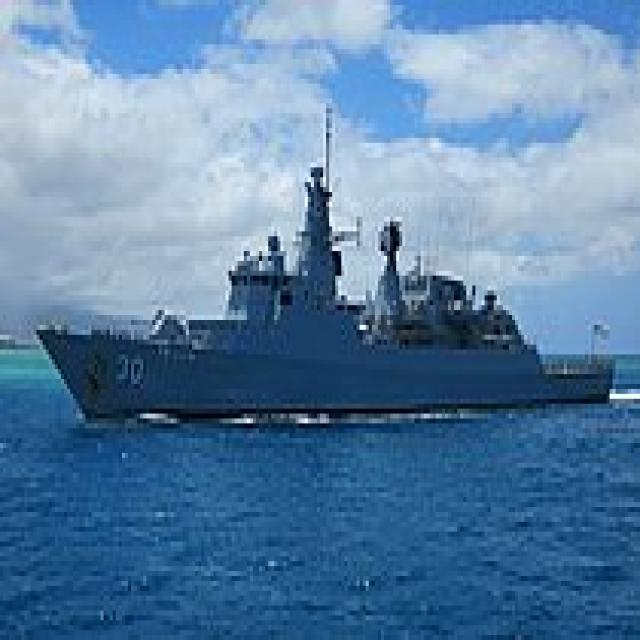Warship: (28, 99, 612, 424)
